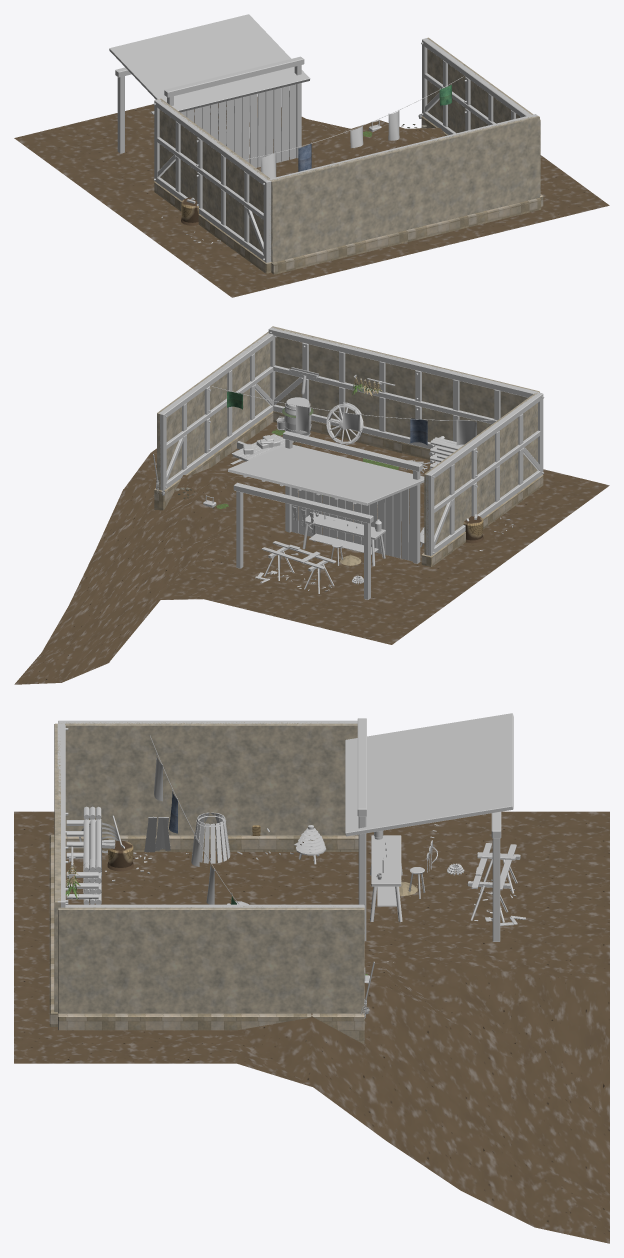
Rendered from props_situ.gltf.
3 views of the same model, one above another, from view 1: azimuth 30°, elevation 25°; view 2: azimuth 150°, elevation 25°; view 3: azimuth 270°, elevation 25° (orthographic). The views are drawn at different scales.
Visible parts, largest first — view 1: props_situ#0_n1, props_situ#n1_n1, props_situ#0_0; view 2: props_situ#0_n1, props_situ#n1_n1, props_situ#0_0; view 3: props_situ#0_n1, props_situ#n1_n1, props_situ#0_0.
Boxes of the visible parts, x1,y1,x2,y2 form: props_situ#0_n1: (14, 37, 609, 297); props_situ#n1_n1: (109, 14, 463, 273); props_situ#0_0: (271, 116, 541, 274); props_situ#0_n1: (14, 327, 609, 684); props_situ#n1_n1: (211, 367, 544, 599); props_situ#0_0: (271, 326, 539, 459); props_situ#0_n1: (14, 723, 609, 1243); props_situ#n1_n1: (58, 713, 525, 941); props_situ#0_0: (49, 723, 65, 1026).
Size of the model in its own units: 12.43 by 7.34 by 12.43.
